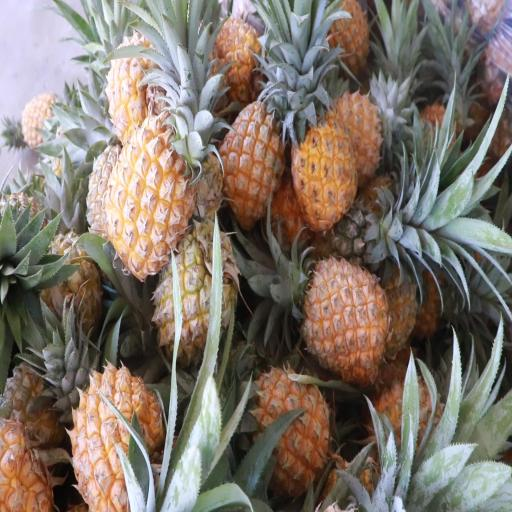------------------------------: (158, 228, 235, 357)
Pineapple - v8 v1: (78, 368, 163, 512), (109, 125, 192, 270), (304, 262, 388, 377), (251, 367, 334, 482), (217, 96, 287, 219), (295, 122, 360, 230), (104, 40, 168, 134), (212, 19, 263, 87)
